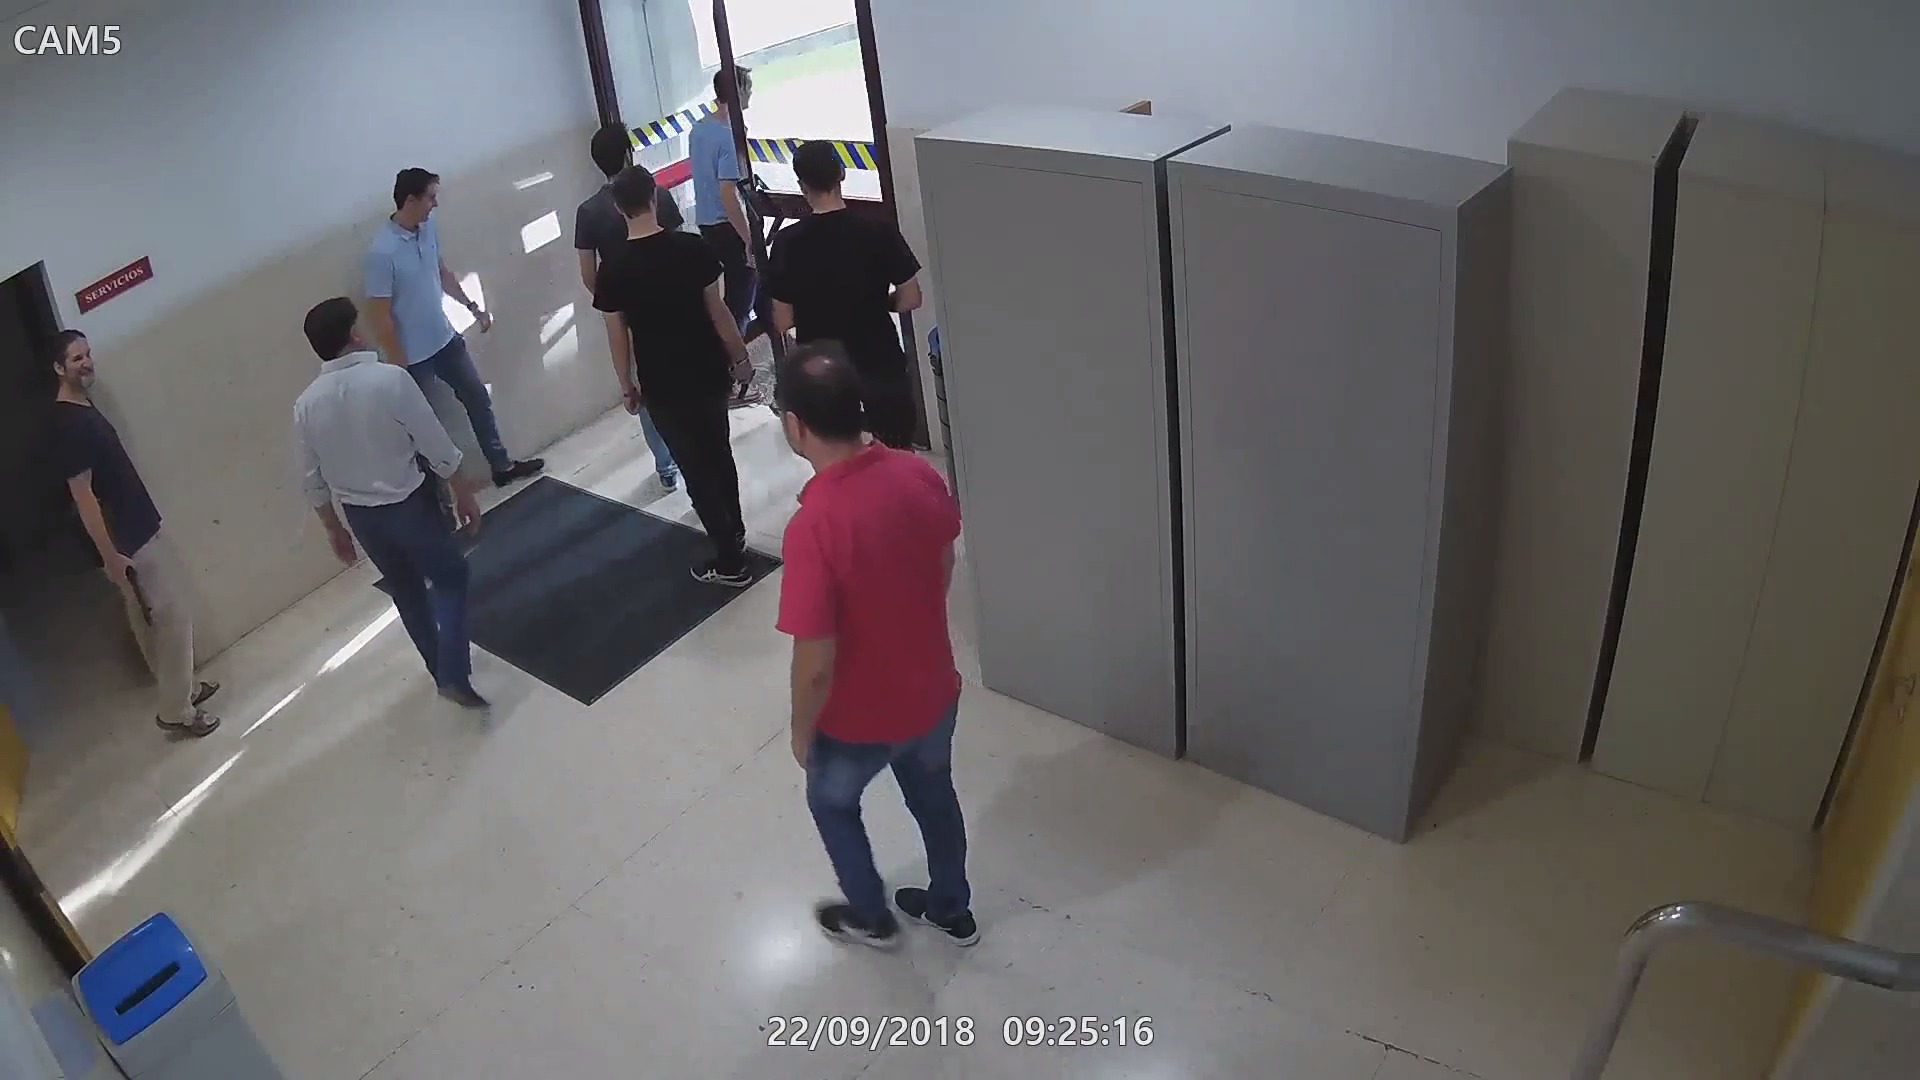pistol: (725, 355, 761, 407), (423, 481, 458, 531)
rifle: (102, 549, 156, 629)
